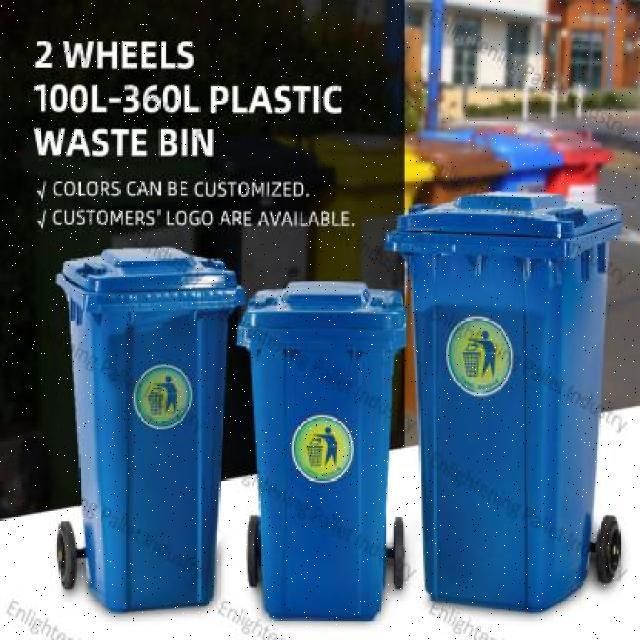garbage container: (387, 189, 632, 622), (50, 240, 250, 623), (233, 279, 418, 625)
